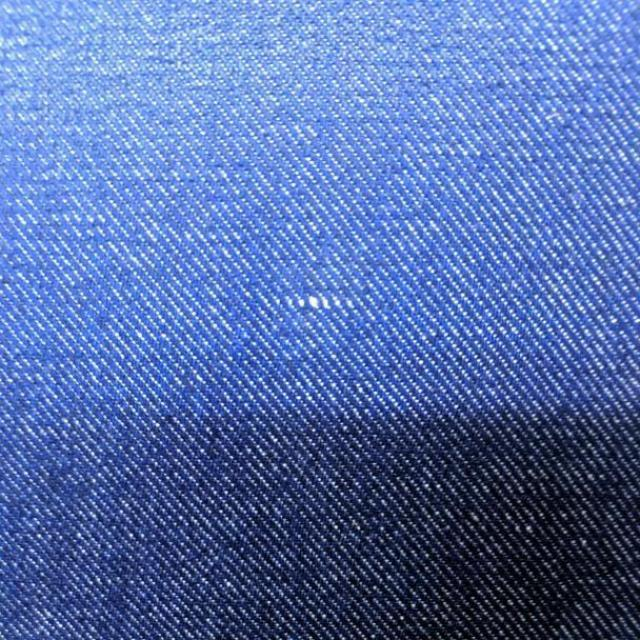Knot: (282, 294, 355, 310)
